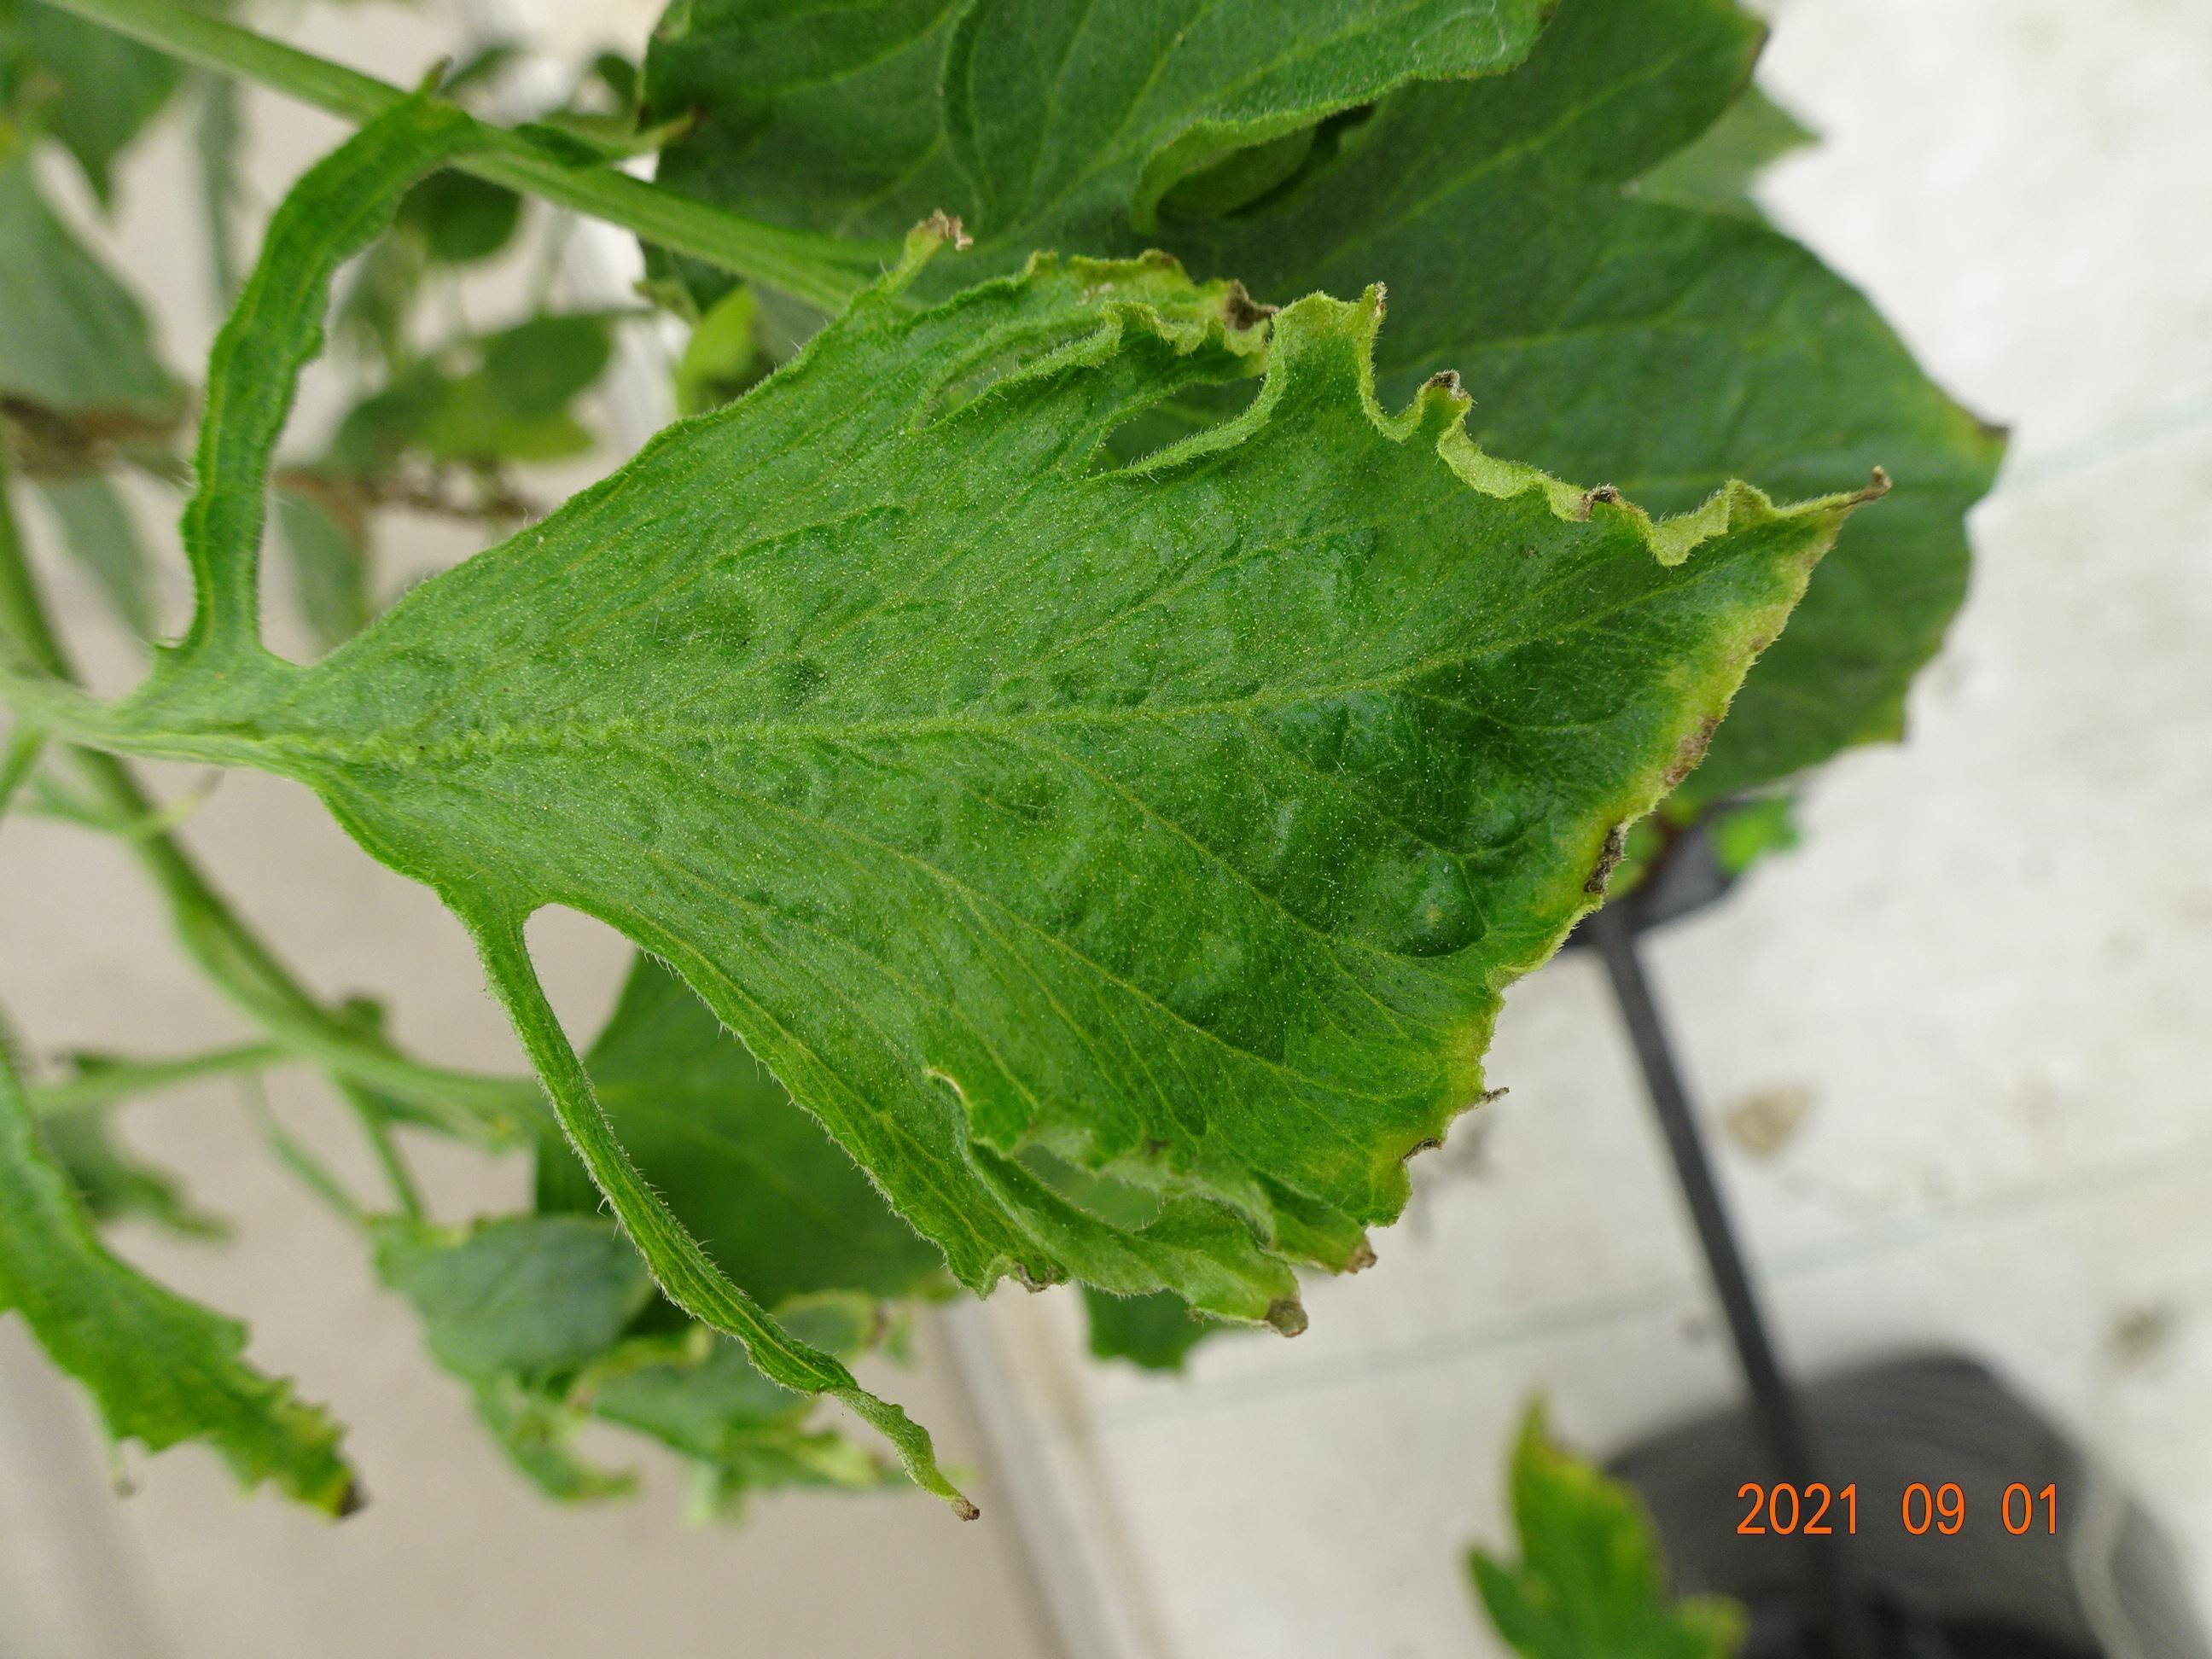Rugose leaf: (263, 260, 1858, 1317)
